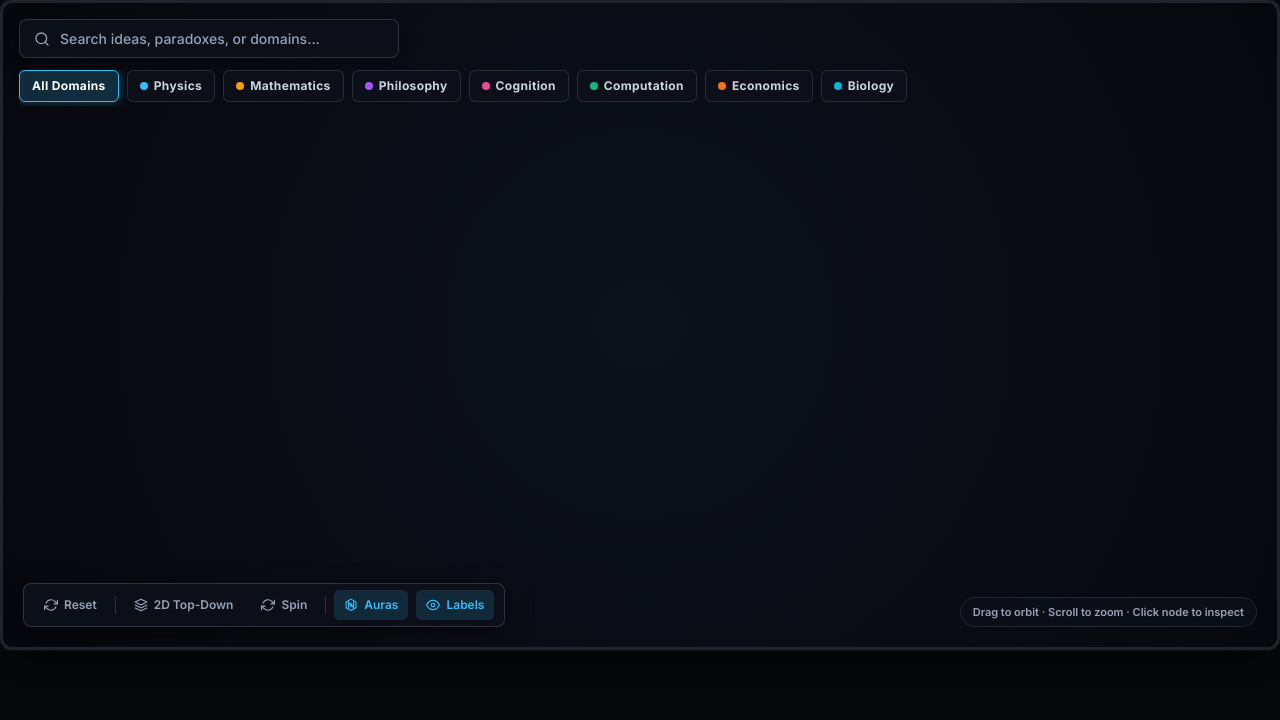
Scenario: KnowledgeGraph3D Component › filters search queries and selects a concept to open Connected Papers inspector
The width and height of the screenshot is (1280, 720).
Step 1. Type "Monty" into the field with placeholder "Search ideas, paradoxes, or domains..." → (222, 38), box [60, 28, 384, 49]
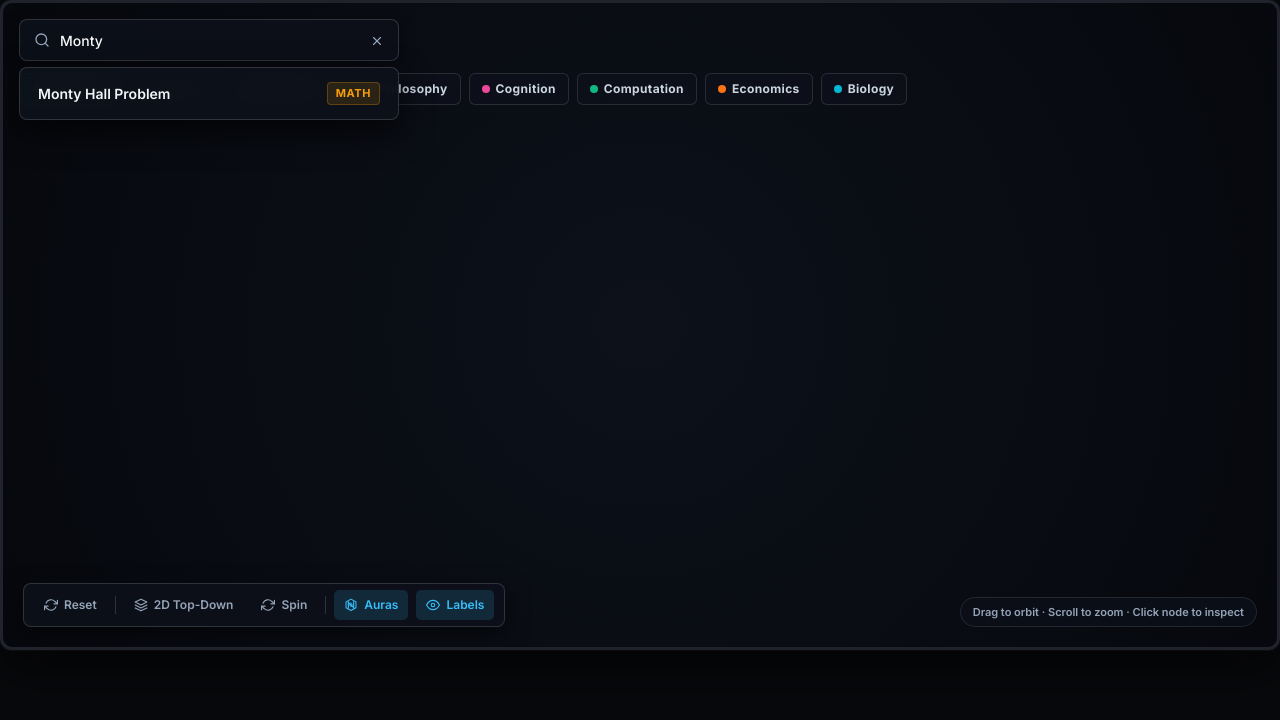
Result: the text "Monty Hall Problem" is shown
Step 2. Click the text "Monty Hall Problem" → (104, 93), box [38, 83, 170, 104]
(page scrolled)
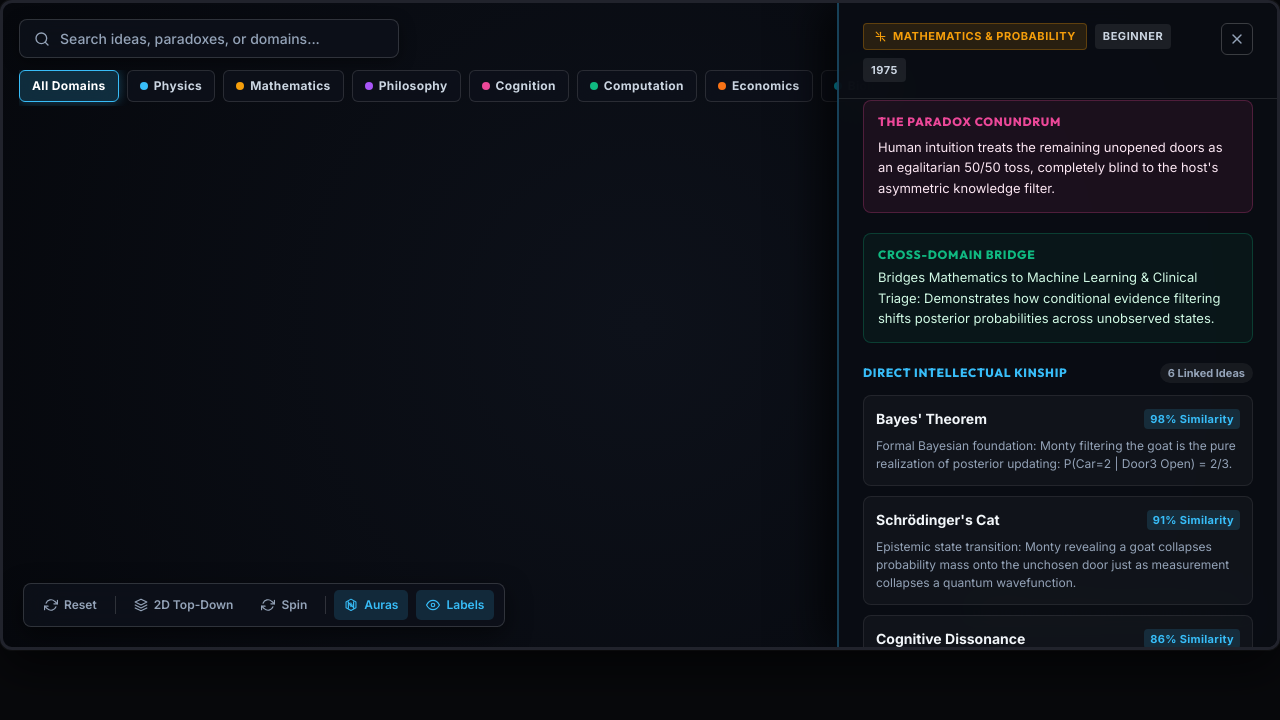
Result: the element with test id "inspector-drawer" is shown at [837, 3, 1277, 647]
Result: the heading "Direct Intellectual Kinship" is shown at [863, 366, 1067, 380]
